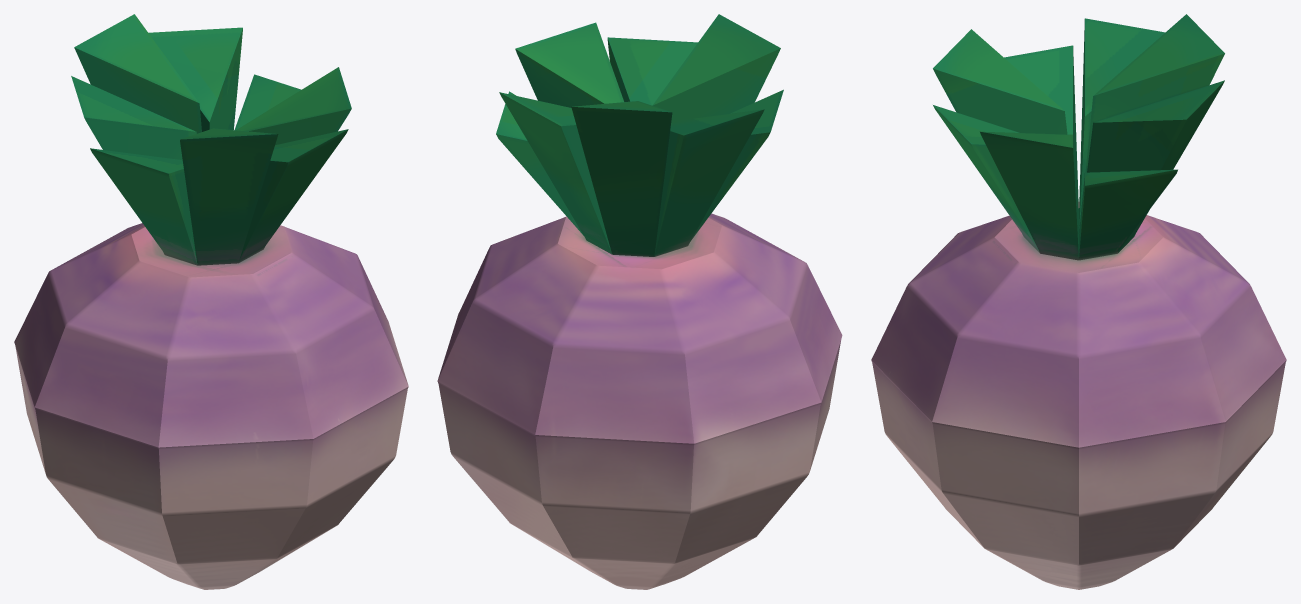
The model's file is navet.gltf.
The picture shows the model from 3 angles, left to right: view 1: azimuth 30°, elevation 25°; view 2: azimuth 150°, elevation 25°; view 3: azimuth 270°, elevation 25°; orthographic projection. The views are drawn at different scales.
Visible parts, largest first — view 1: navet; view 2: navet; view 3: navet.
Part boxes in pixels (bbox=[...]): navet: bbox=[14, 14, 408, 589]; navet: bbox=[437, 14, 842, 589]; navet: bbox=[871, 14, 1286, 589].
Bounding box in the file's own units: 4.42 × 6.24 × 4.42.
Materials: 1 (1 with a texture image).
